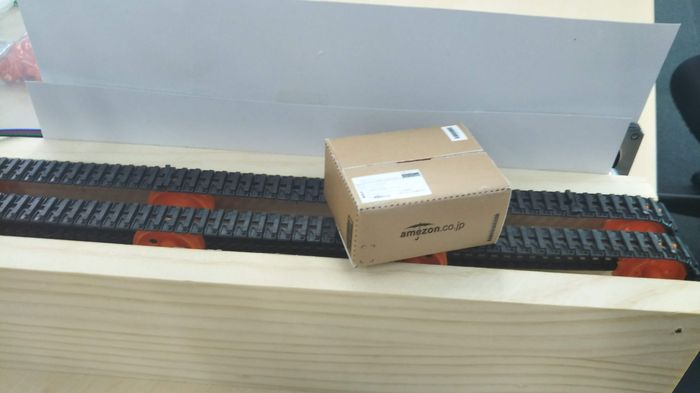box1: (320, 117, 511, 264)
